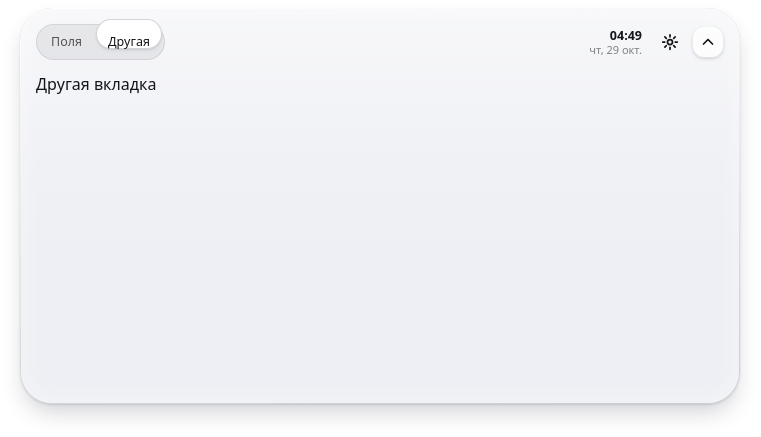
Test case: settings view › returns to the tab it came from
expect the navigation bar is shown: met, box x1=36 y1=24 x2=165 y2=60
Click the button named "Настройки" at (670, 42), box x1=654 y1=26 x2=686 y2=58
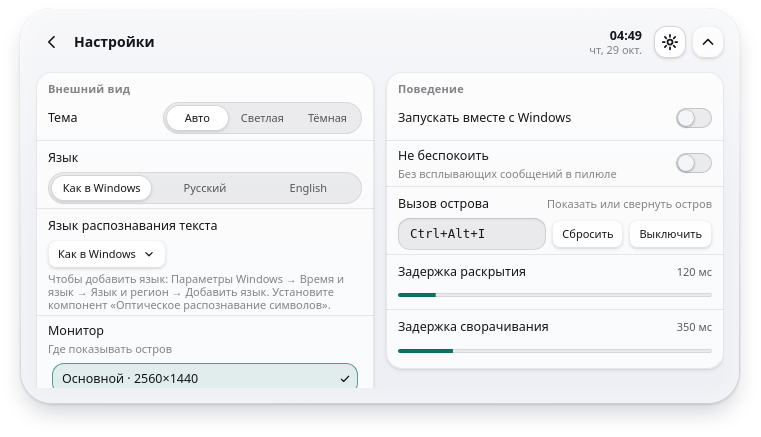
expect the heading "Настройки" is shown: met, box x1=74 y1=35 x2=154 y2=49
Click the button named "Назад" at (52, 42), box x1=36 y1=26 x2=68 y2=58
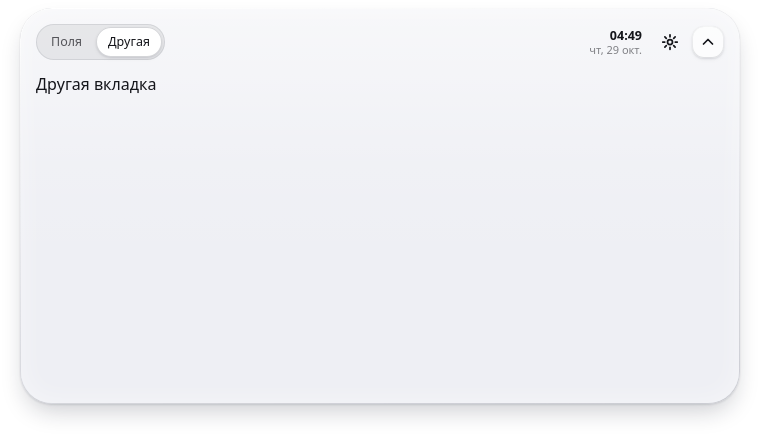
expect the text "Другая вкладка" is shown: met, box x1=36 y1=73 x2=156 y2=95
